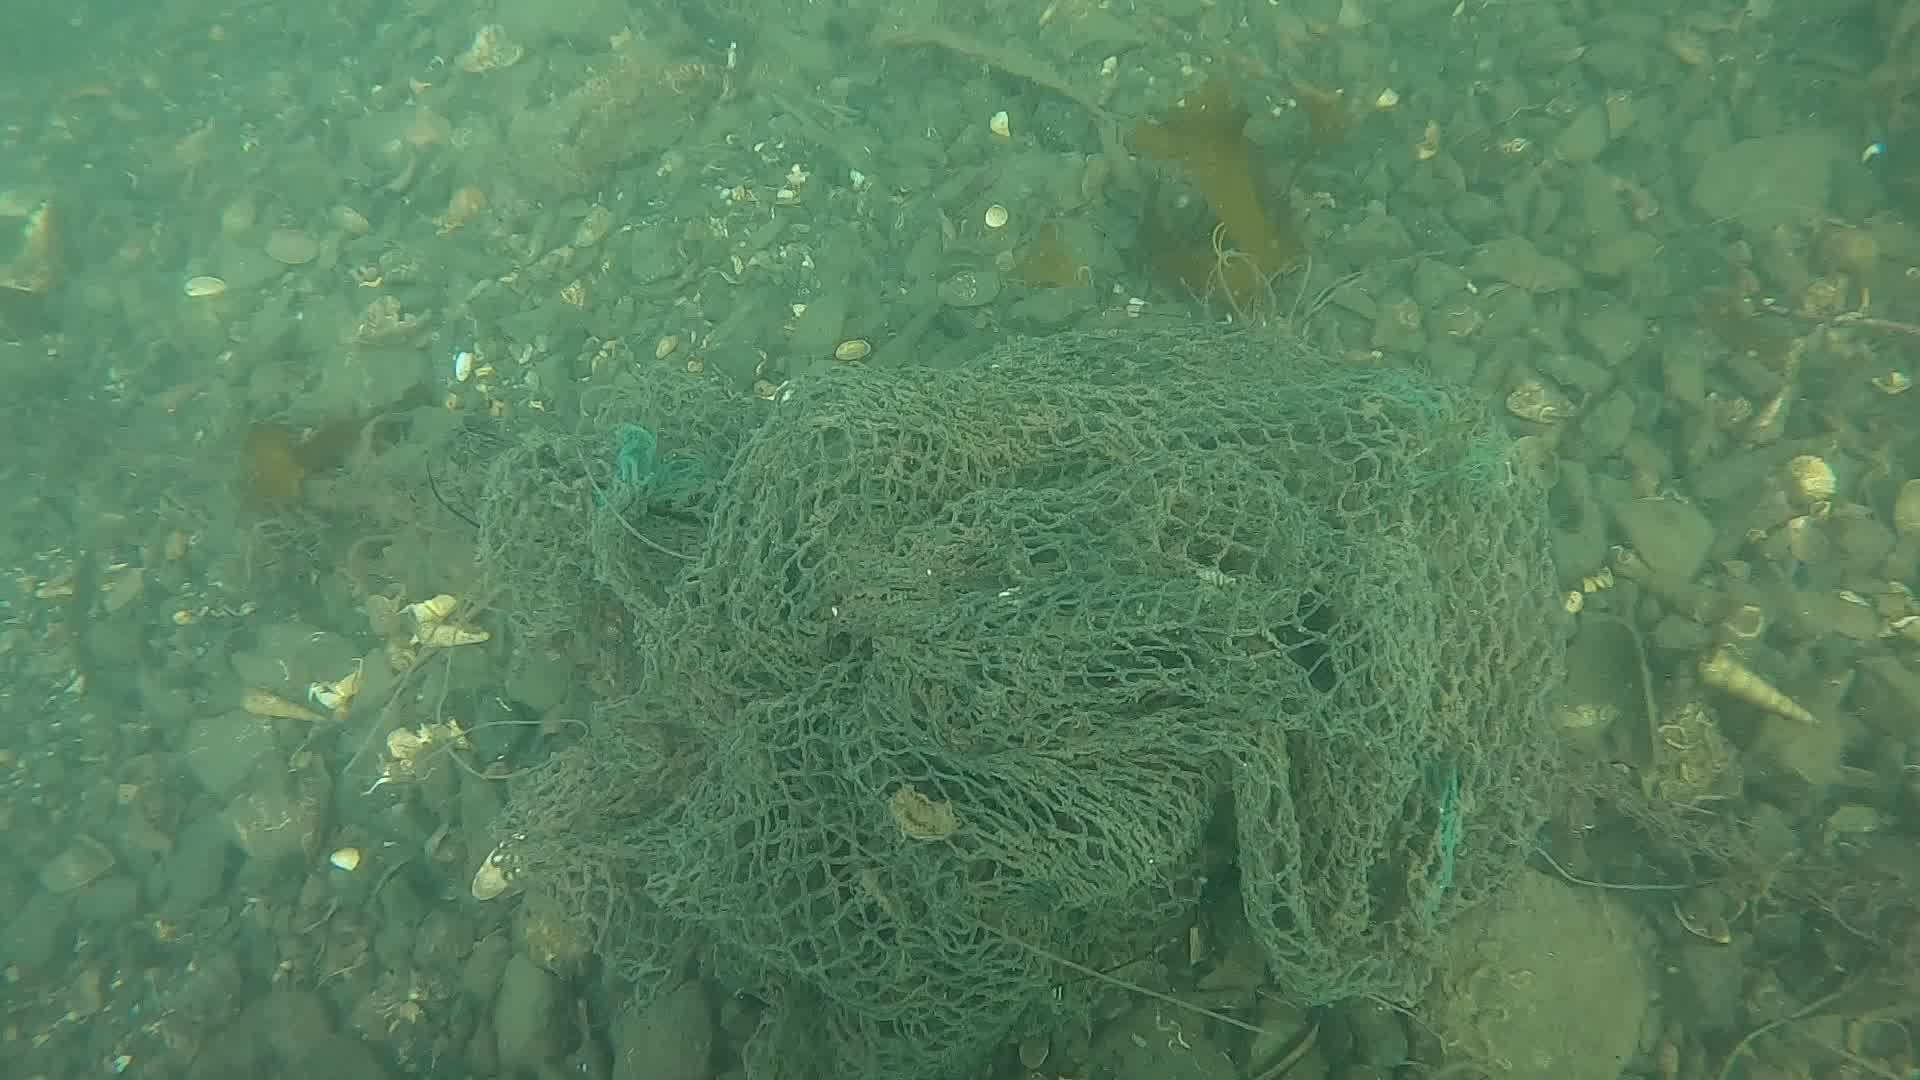fish net: (556, 327, 1564, 1051)
